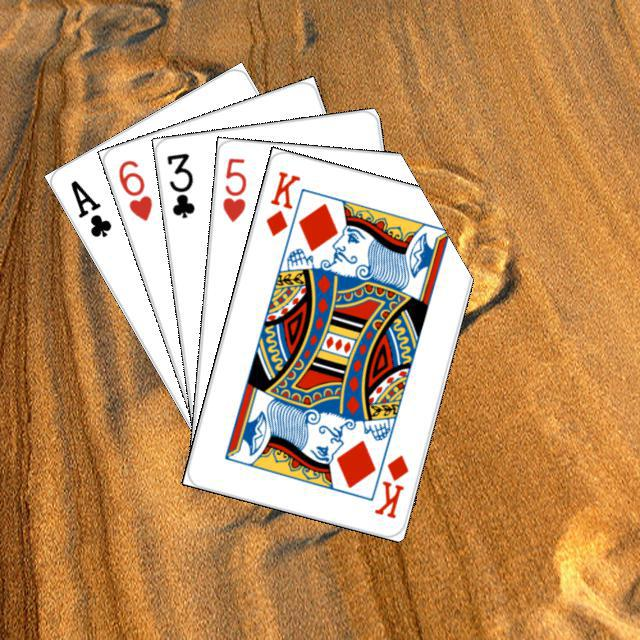3c: (161, 148, 197, 220)
5h: (217, 152, 248, 224)
6h: (113, 155, 154, 223)
Ac: (65, 175, 114, 239)
Kd: (369, 450, 411, 521), (261, 166, 302, 238)
